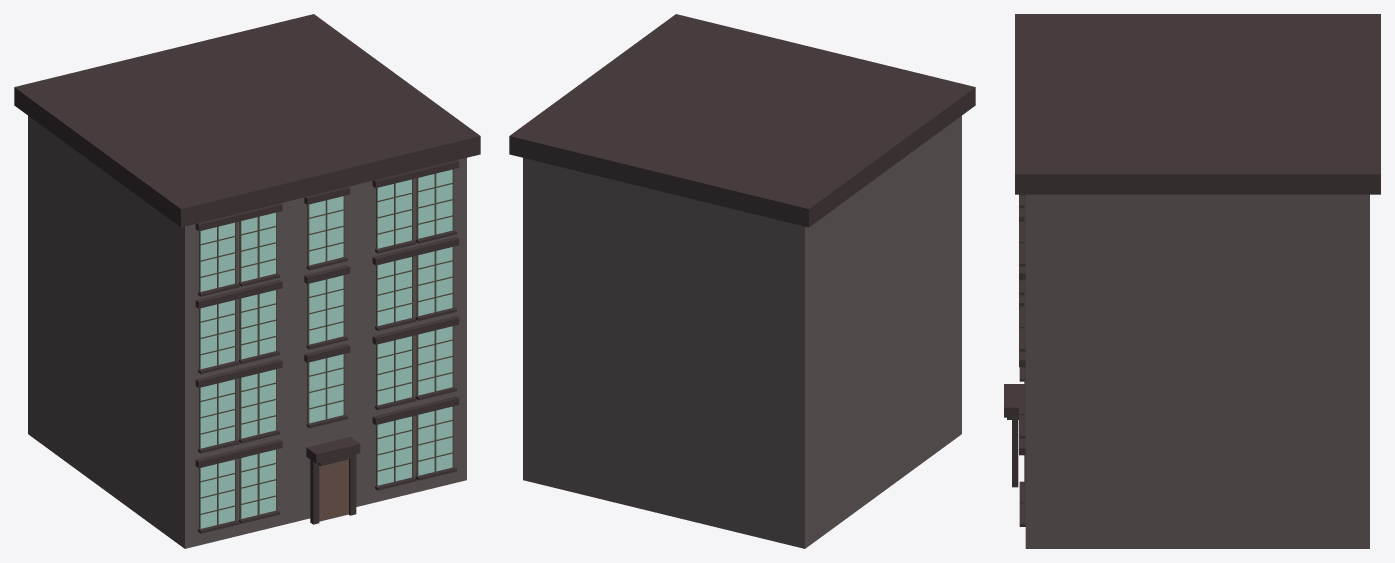
The model's file is Building 3.fbx.
3 renders of one model, left to right at view 1: azimuth 30°, elevation 25°; view 2: azimuth 150°, elevation 25°; view 3: azimuth 270°, elevation 25°, orthographic. The views are drawn at different scales.
Visible parts, largest first — view 1: Cube.030; view 2: Cube.030; view 3: Cube.030.
Boxes of the visible parts, x1,y1,x2,y2 form: Cube.030: [14, 14, 480, 548]; Cube.030: [509, 14, 975, 548]; Cube.030: [1004, 14, 1380, 548].
Bounding box in the file's own units: 4058 × 4484 × 4027.
